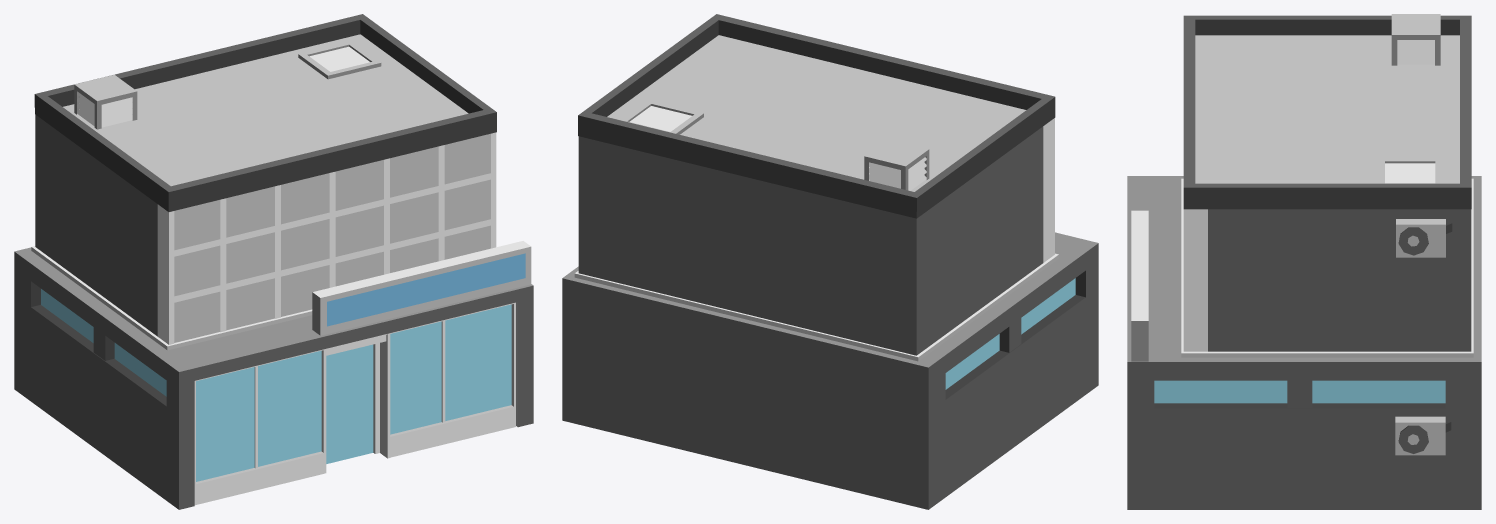
Rendered from House_2.fbx.
The picture shows the model from 3 angles, left to right: view 1: azimuth 30°, elevation 25°; view 2: azimuth 150°, elevation 25°; view 3: azimuth 270°, elevation 25°; orthographic projection. The views are drawn at different scales.
Parts seen in each view (by area): view 1: House_2; view 2: House_2; view 3: House_2.
Part boxes in pixels (box(x1,y1,x2,y2)): House_2: box(14, 14, 533, 509); House_2: box(562, 14, 1098, 509); House_2: box(1127, 14, 1481, 509).
Bounding box in the file's own units: 4.61 × 3.71 × 3.59.
